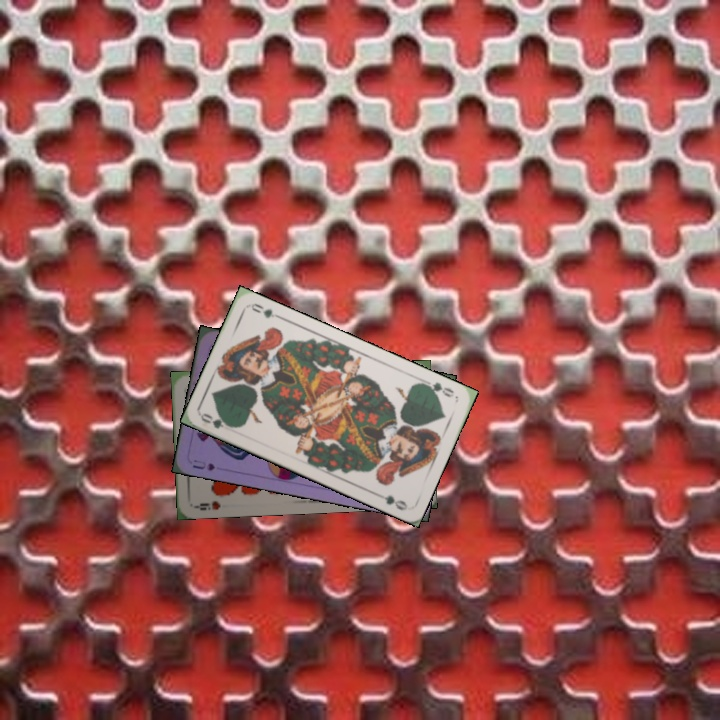GO: (197, 409, 238, 431), (420, 376, 456, 400)
H9: (191, 497, 223, 513)
SU: (189, 455, 217, 473)
